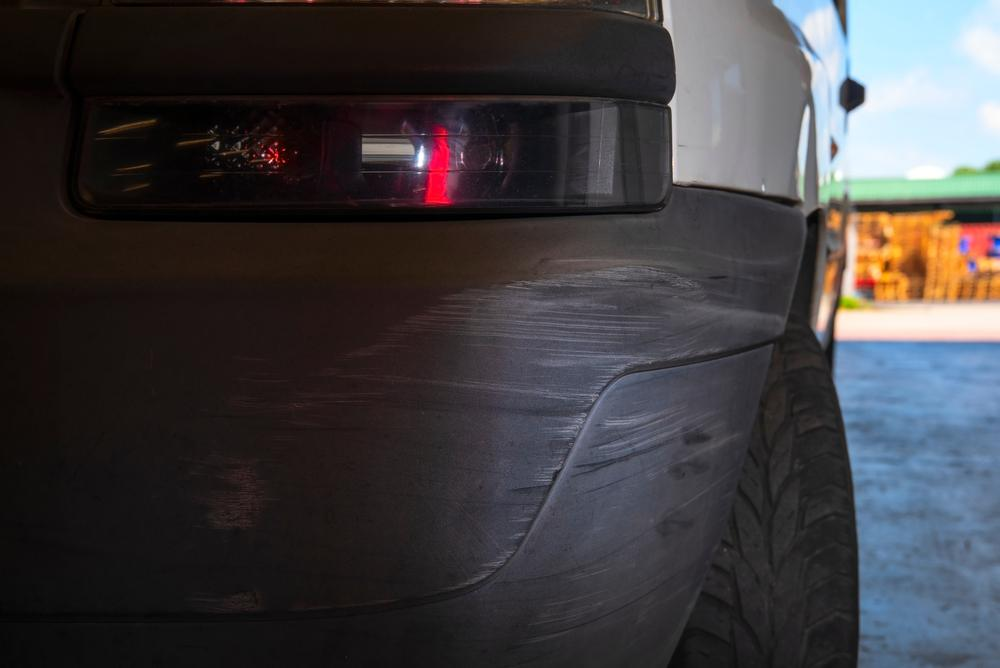scratch: (139, 252, 778, 657)
